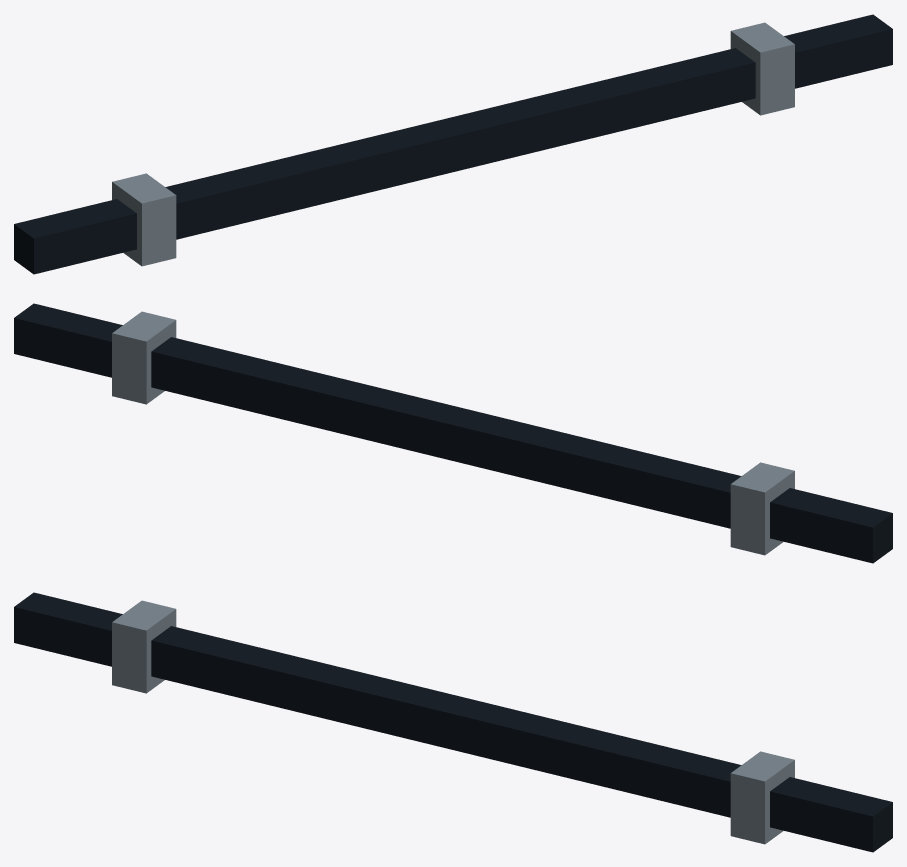
The model's file is np_z03_commun_cable_fixe.glb.
3 renders of one model, top to bottom at view 1: azimuth 30°, elevation 25°; view 2: azimuth 150°, elevation 25°; view 3: azimuth 330°, elevation 25°, orthographic.
Visible parts, largest first — view 1: Troncon, BrideGauche, BrideDroite; view 2: Troncon, BrideGauche, BrideDroite; view 3: Troncon, BrideDroite, BrideGauche.
Boxes of the visible parts, box(x1,y1,x2,y2) form: Troncon: box(14, 14, 892, 274); BrideGauche: box(112, 173, 176, 266); BrideDroite: box(730, 22, 794, 115); Troncon: box(14, 303, 892, 563); BrideGauche: box(730, 462, 794, 555); BrideDroite: box(112, 311, 176, 404); Troncon: box(14, 592, 892, 852); BrideDroite: box(730, 751, 794, 844); BrideGauche: box(112, 600, 176, 693).
Bounding box in the file's own units: 2 × 0.14 × 0.12.
